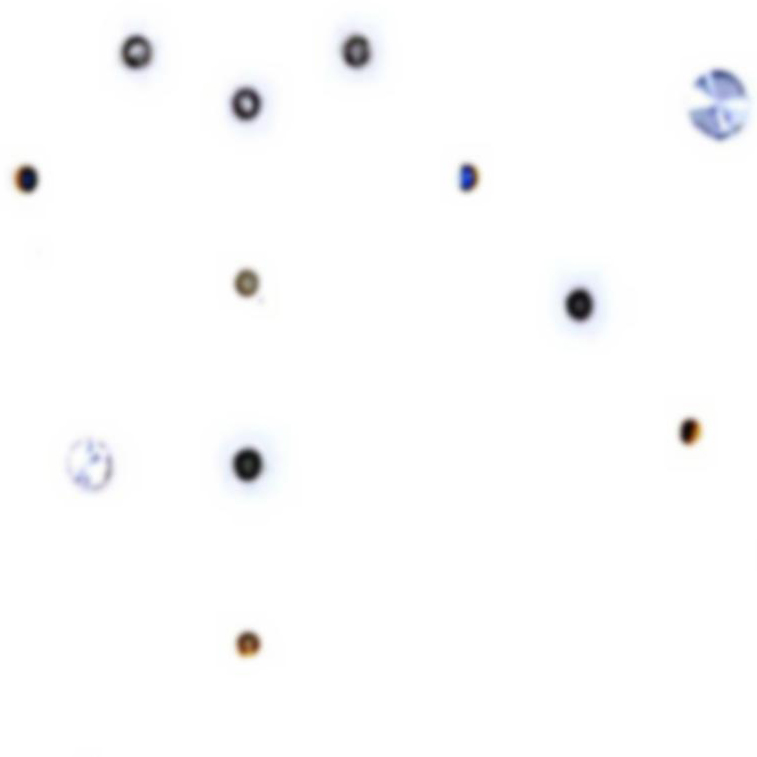abnormal: (666, 59, 757, 153), (54, 426, 133, 503)
cancer: (536, 263, 637, 353), (210, 419, 306, 509), (314, 16, 413, 89), (96, 13, 184, 94), (212, 72, 294, 144)
normal: (424, 134, 500, 206), (656, 384, 722, 457), (219, 252, 287, 316), (223, 610, 283, 672), (6, 152, 54, 207)
